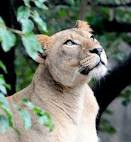lion: (2, 26, 108, 142)
